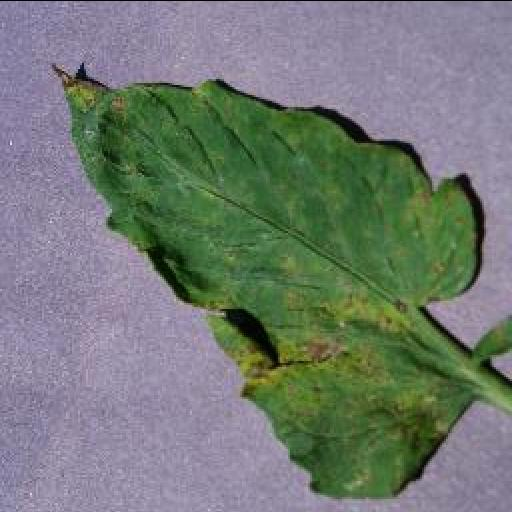disease_tomato: (50, 68, 470, 497)
